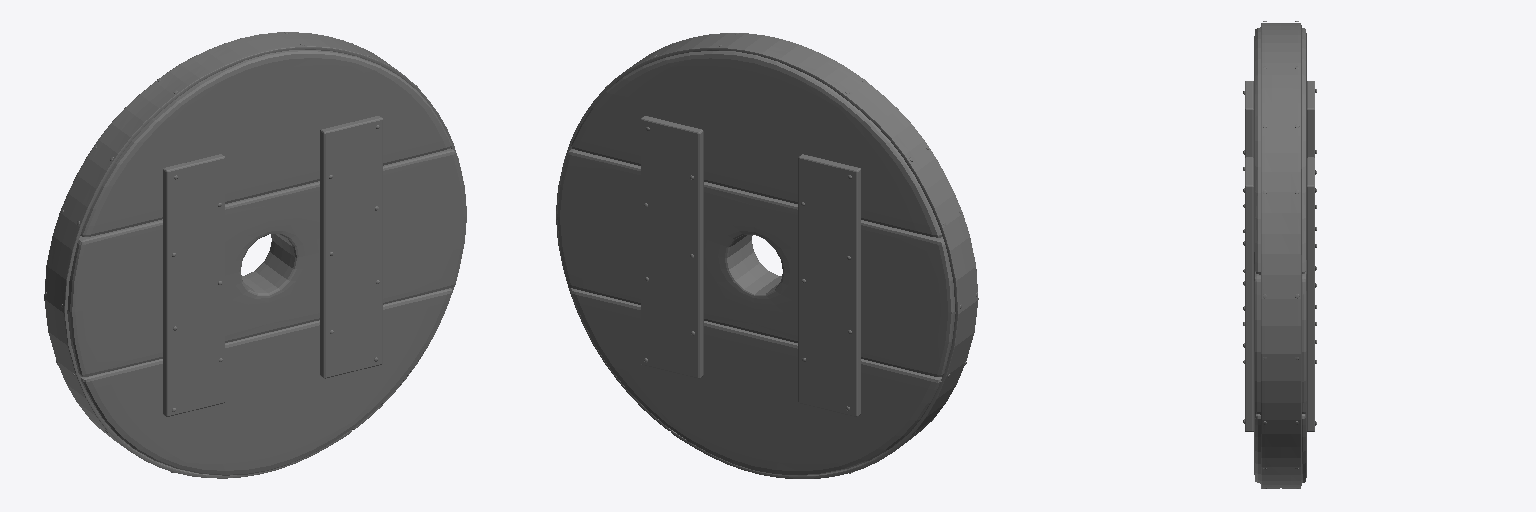
File: Solid_Wooden_Wheel.obj
3 renders of one model, left to right at view 1: azimuth 30°, elevation 25°; view 2: azimuth 150°, elevation 25°; view 3: azimuth 270°, elevation 25°, orthographic.
Visible parts, largest first — view 1: Wooden_Wheel_Middle_Mesh.003, Wooden_Wheel_Top_Mesh.001, Wooden_Wheel_Bottom_Mesh.001, Wooden_Wheel_Table_1_Mesh.004, Wooden_Wheel_Table_2_Mesh.004, Wooden_Wheel_OutsideCover_Mesh.005; view 2: Wooden_Wheel_Middle_Mesh.003, Wooden_Wheel_Top_Mesh.001, Wooden_Wheel_Bottom_Mesh.001, Wooden_Wheel_Table_3_Mesh.004, Wooden_Wheel_Table_4_Mesh.004, Wooden_Wheel_OutsideCover_Mesh.005; view 3: Wooden_Wheel_OutsideCover_Mesh.005, Wooden_Wheel_Top_Mesh.001, Wooden_Wheel_Table_1_Mesh.004, Wooden_Wheel_Table_3_Mesh.004, Wooden_Wheel_Middle_Mesh.003, Wooden_Wheel_Bottom_Mesh.001, Wooden_Wheel_Table_2_Mesh.004, Wooden_Wheel_Table_4_Mesh.004.
Boxes of the visible parts, <box> form: Wooden_Wheel_Middle_Mesh.003: <box>67,148,465,376</box>; Wooden_Wheel_Top_Mesh.001: <box>80,50,451,236</box>; Wooden_Wheel_Bottom_Mesh.001: <box>81,288,451,475</box>; Wooden_Wheel_Table_1_Mesh.004: <box>320,116,382,378</box>; Wooden_Wheel_Table_2_Mesh.004: <box>163,154,224,416</box>; Wooden_Wheel_OutsideCover_Mesh.005: <box>44,32,466,478</box>; Wooden_Wheel_Middle_Mesh.003: <box>557,149,967,376</box>; Wooden_Wheel_Top_Mesh.001: <box>571,51,942,237</box>; Wooden_Wheel_Bottom_Mesh.001: <box>571,289,941,475</box>; Wooden_Wheel_Table_3_Mesh.004: <box>641,116,703,378</box>; Wooden_Wheel_Table_4_Mesh.004: <box>798,154,860,416</box>; Wooden_Wheel_OutsideCover_Mesh.005: <box>556,33,978,478</box>; Wooden_Wheel_OutsideCover_Mesh.005: <box>1261,23,1301,488</box>; Wooden_Wheel_Top_Mesh.001: <box>1254,27,1306,274</box>; Wooden_Wheel_Table_1_Mesh.004: <box>1245,157,1253,431</box>; Wooden_Wheel_Table_3_Mesh.004: <box>1307,157,1314,431</box>; Wooden_Wheel_Middle_Mesh.003: <box>1254,252,1306,414</box>; Wooden_Wheel_Bottom_Mesh.001: <box>1254,404,1306,483</box>; Wooden_Wheel_Table_2_Mesh.004: <box>1245,81,1253,157</box>; Wooden_Wheel_Table_4_Mesh.004: <box>1307,81,1314,157</box>.
Size of the model in its own units: 0.9288 by 0.9289 by 0.1474.